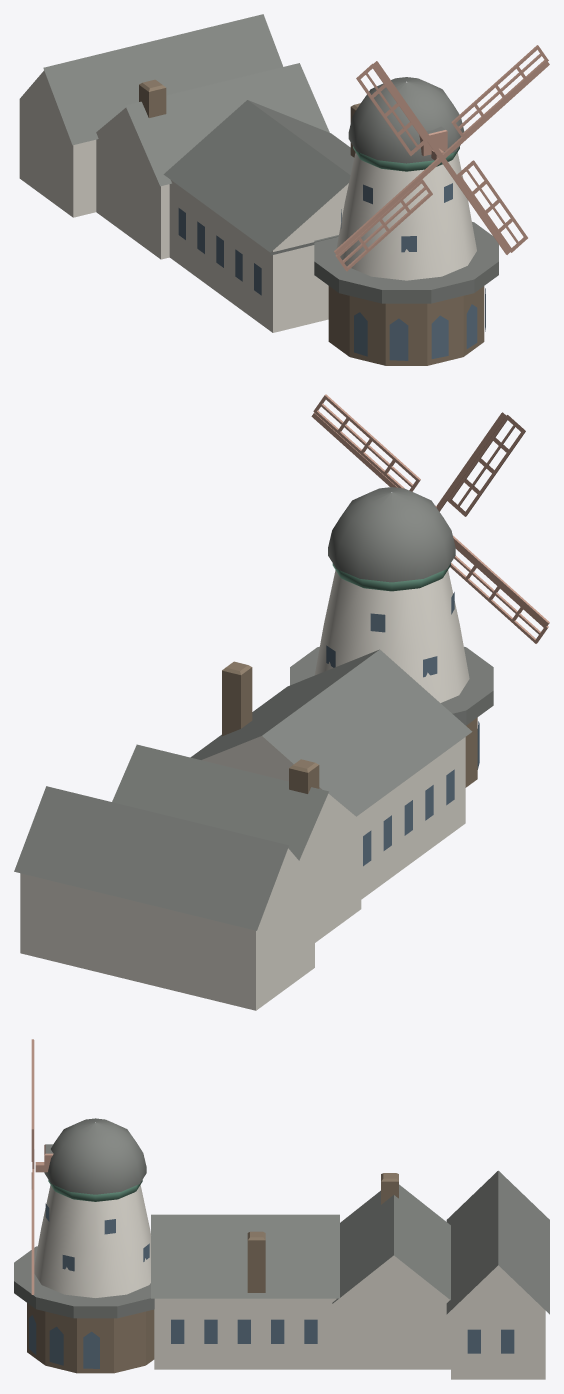
File: stl-bevo-mill.glb
3 renders of one model, top to bottom at view 1: azimuth 30°, elevation 25°; view 2: azimuth 150°, elevation 25°; view 3: azimuth 270°, elevation 25°, orthographic. The views are drawn at different scales.
Parts seen in each view (by area): view 1: Bevo Mill; view 2: Bevo Mill; view 3: Bevo Mill.
Boxes of the visible parts, x1,y1,x2,y2 form: Bevo Mill: [19, 14, 549, 365]; Bevo Mill: [14, 394, 549, 1010]; Bevo Mill: [14, 1039, 549, 1379].
Bounding box in the file's own units: 22.26 × 27.46 × 48.24.
